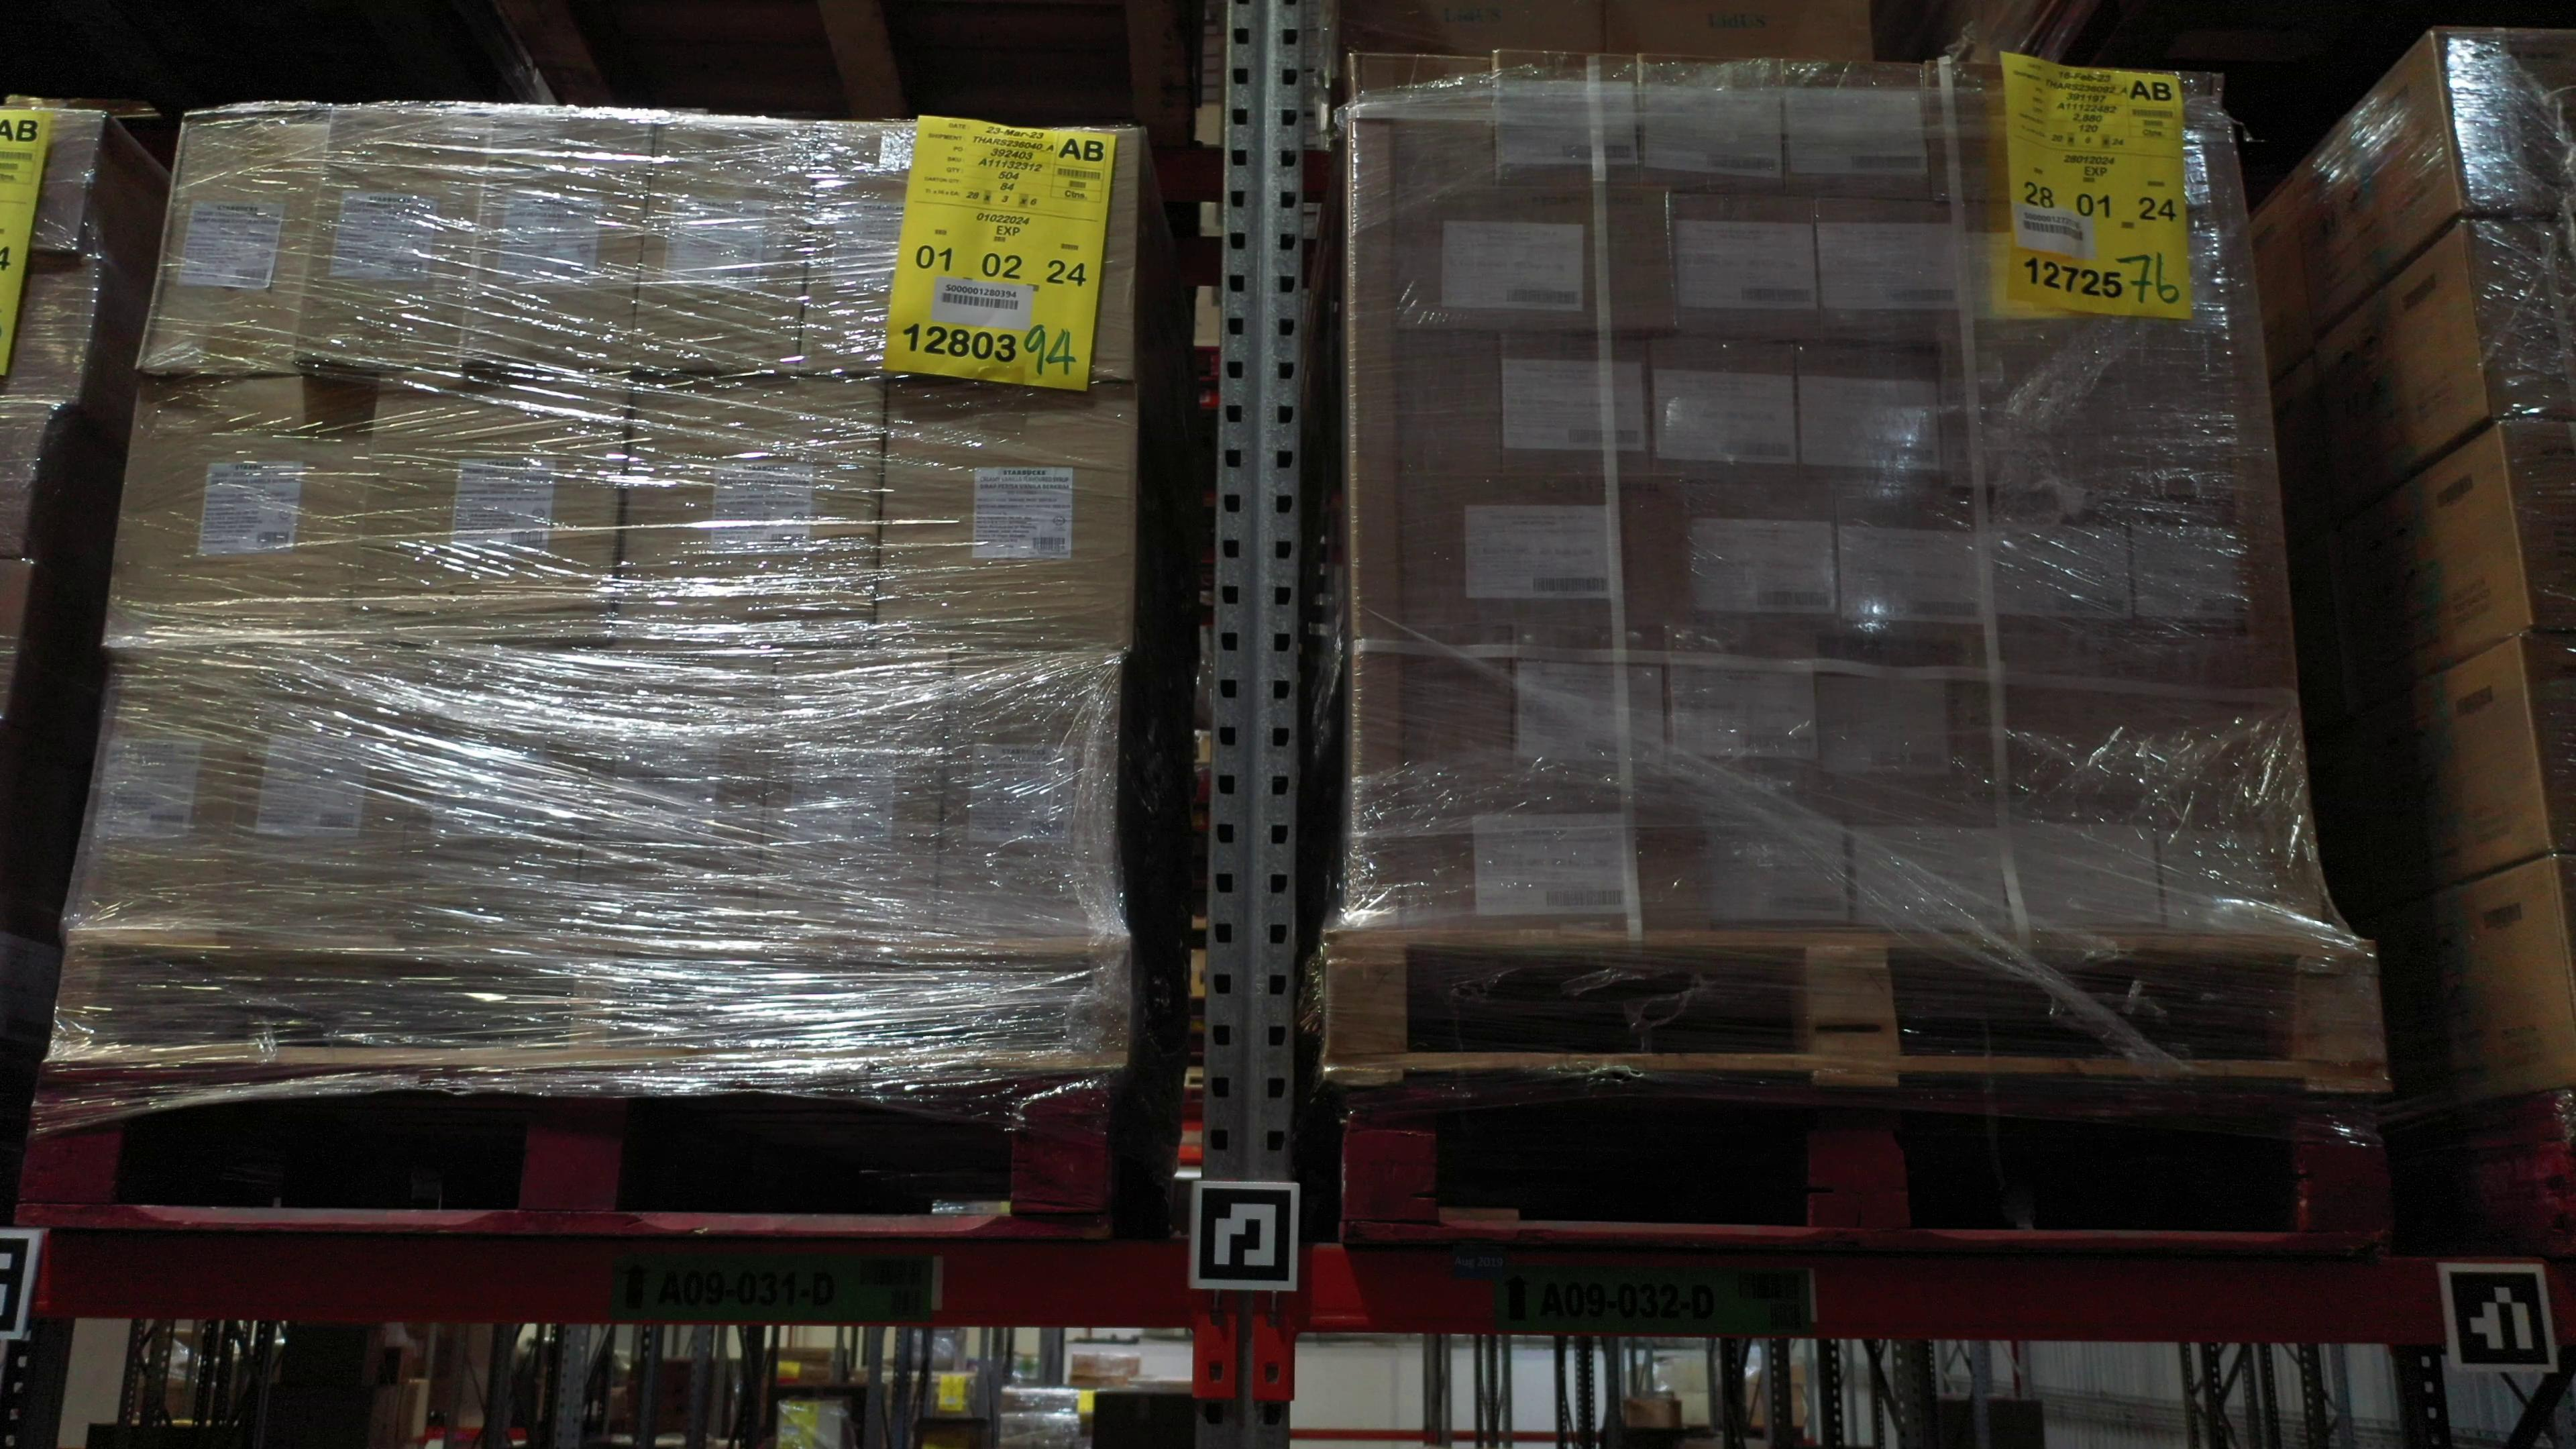-: (347, 371, 635, 655), (608, 369, 888, 655), (99, 374, 378, 657), (874, 369, 1138, 653), (394, 649, 608, 939), (221, 646, 431, 934), (579, 649, 780, 937), (756, 646, 953, 939), (1967, 636, 2310, 802), (1939, 342, 2282, 505), (129, 107, 335, 378), (62, 649, 257, 934), (297, 105, 494, 378), (937, 655, 1125, 939), (1350, 474, 1693, 629), (470, 107, 657, 380), (1347, 788, 1705, 930), (1925, 62, 2245, 220), (1348, 187, 1674, 335), (803, 123, 995, 371), (635, 116, 816, 376), (984, 127, 1140, 378), (2430, 28, 2576, 226), (1351, 621, 1514, 786), (1510, 622, 1669, 790), (1813, 633, 1974, 795), (1665, 627, 1821, 795), (2127, 500, 2294, 651), (1684, 480, 1845, 635), (2463, 213, 2576, 427), (1837, 488, 1994, 641), (2156, 799, 2326, 936), (1796, 338, 1947, 492), (2108, 210, 2267, 356), (1649, 332, 1801, 484), (1669, 190, 1822, 341), (1960, 201, 2119, 346), (1986, 492, 2139, 641), (1499, 329, 1652, 477), (1848, 796, 2015, 931), (1347, 329, 1500, 476), (1817, 197, 1968, 343), (1636, 52, 1787, 199), (1784, 58, 1935, 203), (2004, 799, 2164, 930), (1699, 792, 1855, 926), (1491, 50, 1641, 187), (1346, 57, 1496, 189), (2495, 425, 2576, 641), (0, 103, 111, 252), (0, 256, 103, 405), (2516, 639, 2576, 857), (0, 397, 60, 563)
